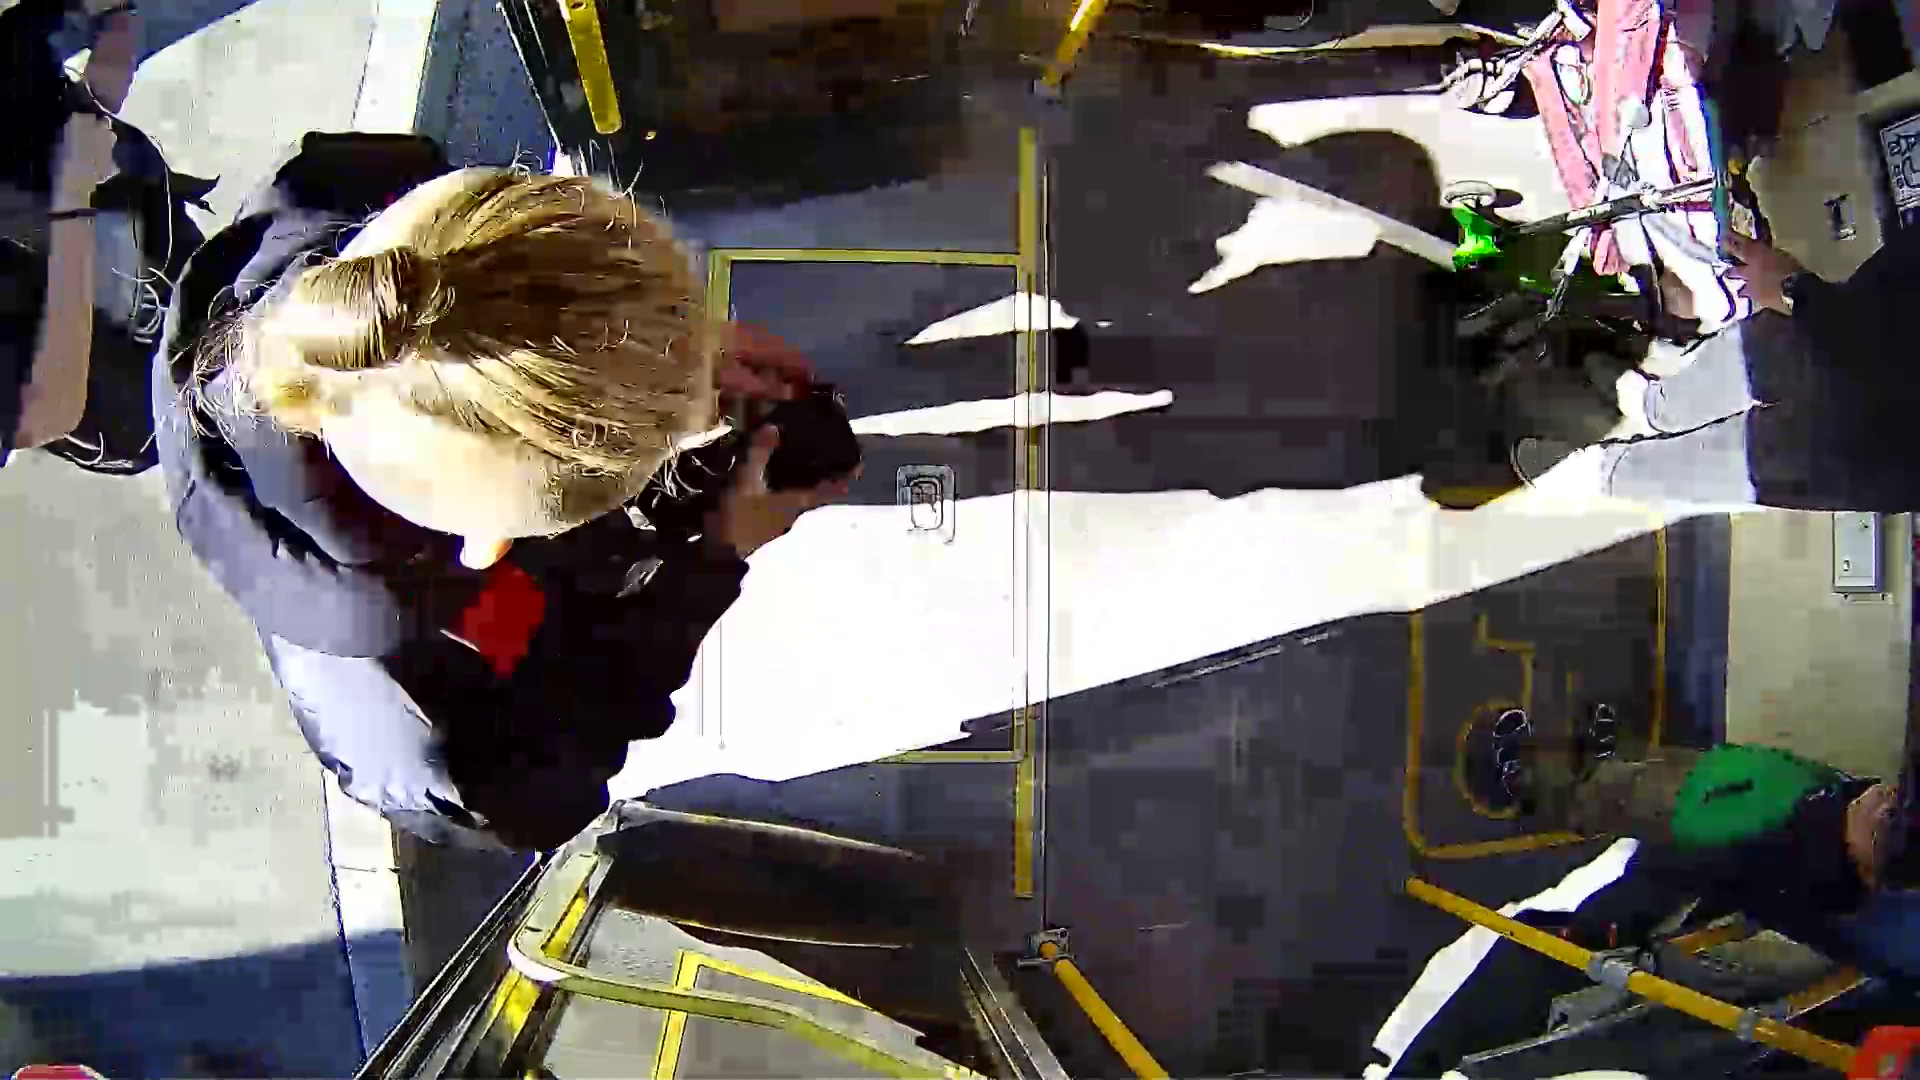person: (169, 145, 873, 828)
